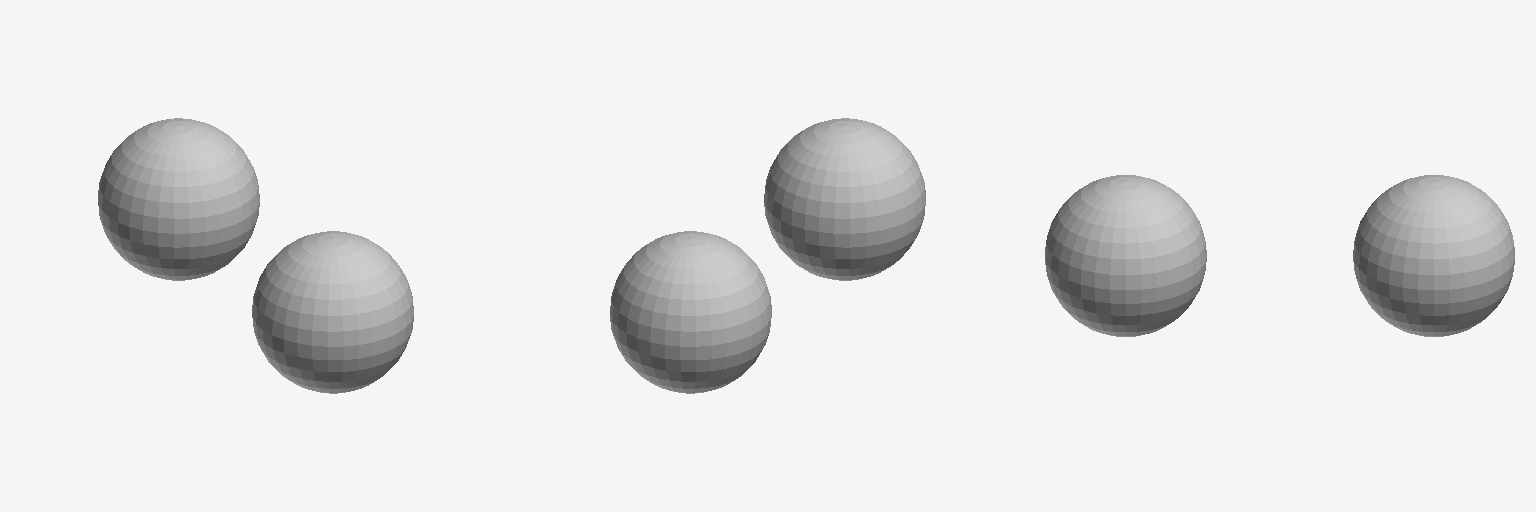
The model's file is boo_eyes.obj.
3 renders of one model, left to right at view 1: azimuth 30°, elevation 25°; view 2: azimuth 150°, elevation 25°; view 3: azimuth 270°, elevation 25°, orthographic.
Parts seen in each view (by area): view 1: Sphere.001, Sphere.002; view 2: Sphere.001, Sphere.002; view 3: Sphere.001, Sphere.002.
Boxes of the visible parts, x1,y1,x2,y2 form: Sphere.001: [252, 231, 413, 393]; Sphere.002: [98, 118, 259, 280]; Sphere.001: [764, 118, 925, 280]; Sphere.002: [610, 231, 771, 393]; Sphere.001: [1045, 175, 1206, 336]; Sphere.002: [1353, 175, 1514, 336].
Bounding box in the file's own units: 0.4026 × 0.4026 × 1.17.